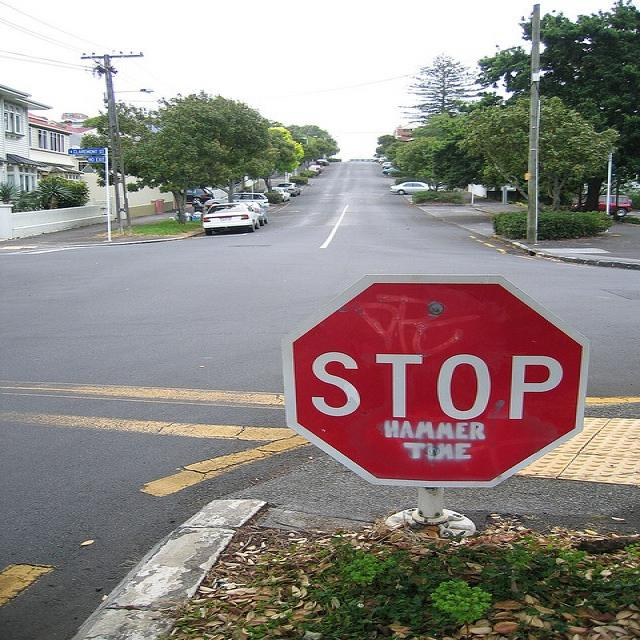car: (199, 201, 260, 235), (569, 193, 631, 215), (238, 200, 266, 224), (229, 189, 268, 206), (387, 180, 428, 194), (261, 185, 291, 201), (275, 182, 300, 195), (202, 193, 226, 204), (380, 165, 397, 173), (315, 157, 328, 165), (379, 160, 389, 167), (307, 166, 317, 172), (376, 157, 384, 162)
pole: (519, 4, 541, 242)
